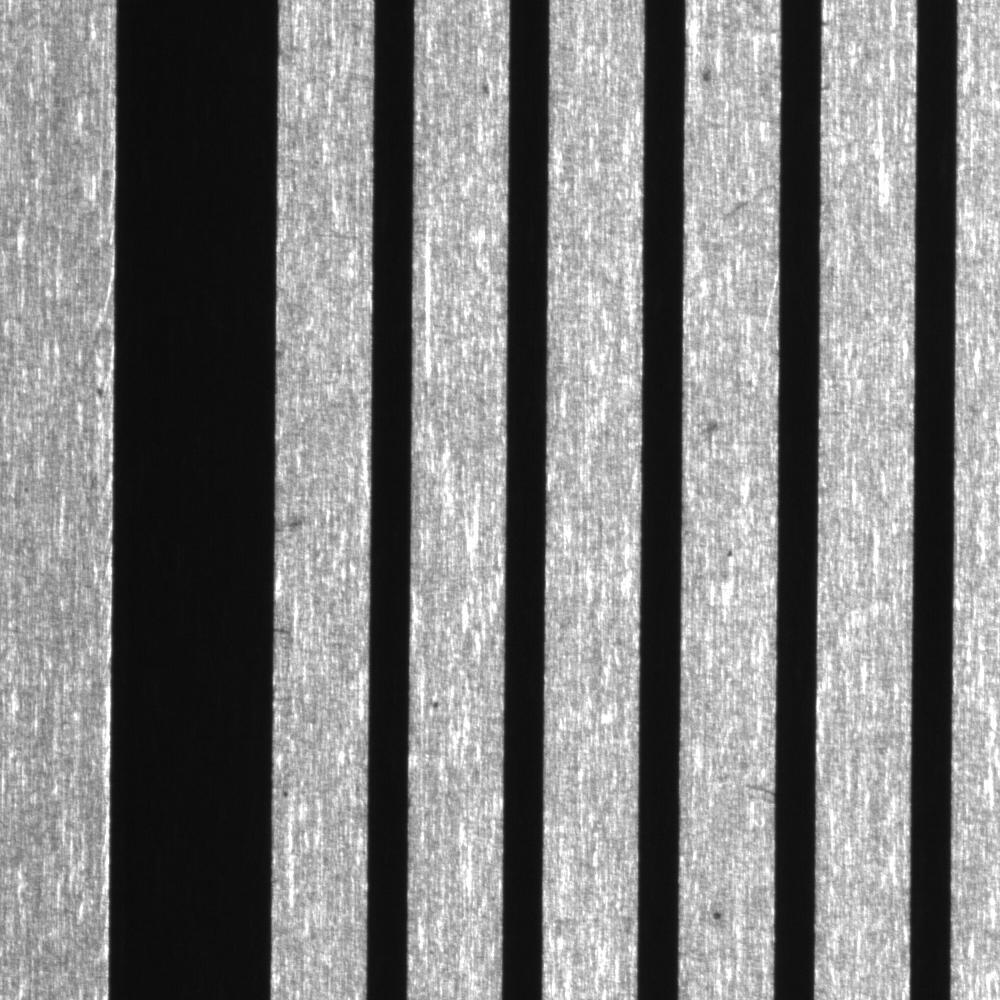Etching: (274, 504, 311, 539), (699, 55, 721, 97), (475, 74, 501, 108), (88, 373, 111, 407), (718, 538, 741, 565)
Pinhole: (706, 898, 734, 936), (427, 689, 448, 721), (279, 781, 296, 808)
Scar: (741, 771, 775, 814)
